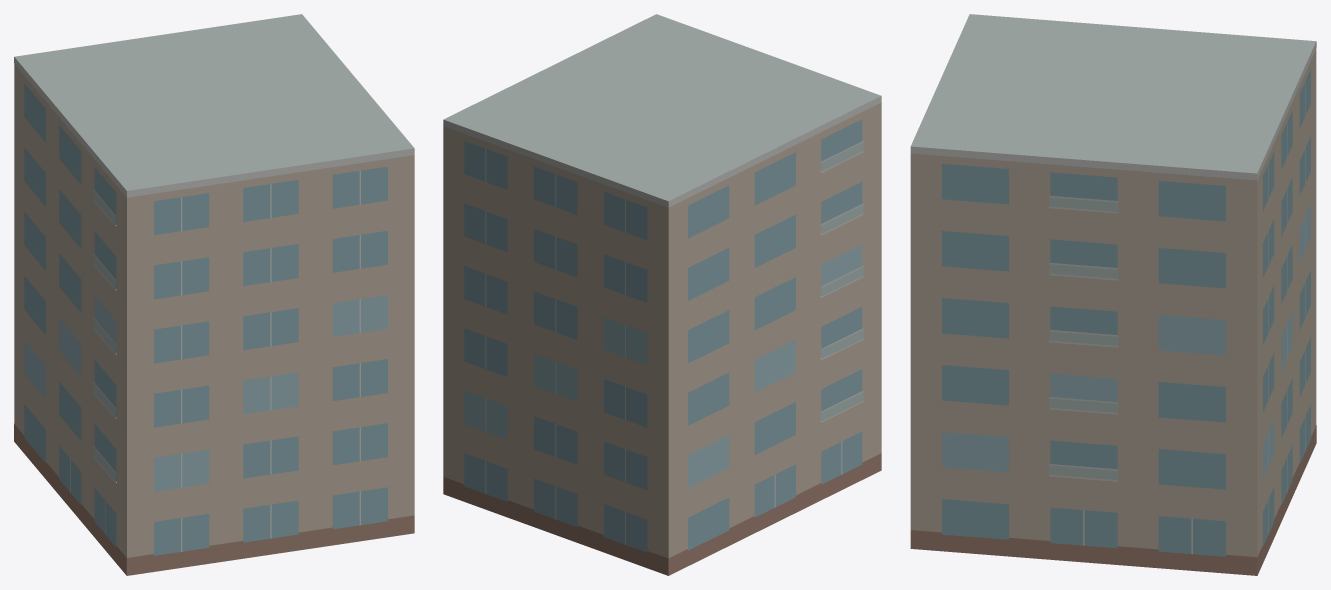
Rendered from survey-upis-32698551.glb.
3 views of the same model, side by side, from view 1: azimuth 30°, elevation 25°; view 2: azimuth 150°, elevation 25°; view 3: azimuth 270°, elevation 25° (orthographic). The views are drawn at different scales.
Parts seen in each view (by area): view 1: survey-upis-32698551.tmp; view 2: survey-upis-32698551.tmp; view 3: survey-upis-32698551.tmp.
Boxes of the visible parts, <box> form: survey-upis-32698551.tmp: <box>14,14,414,575</box>; survey-upis-32698551.tmp: <box>443,14,881,575</box>; survey-upis-32698551.tmp: <box>910,14,1316,575</box>.
Size of the model in its own units: 12 by 14.1 by 12.9.
